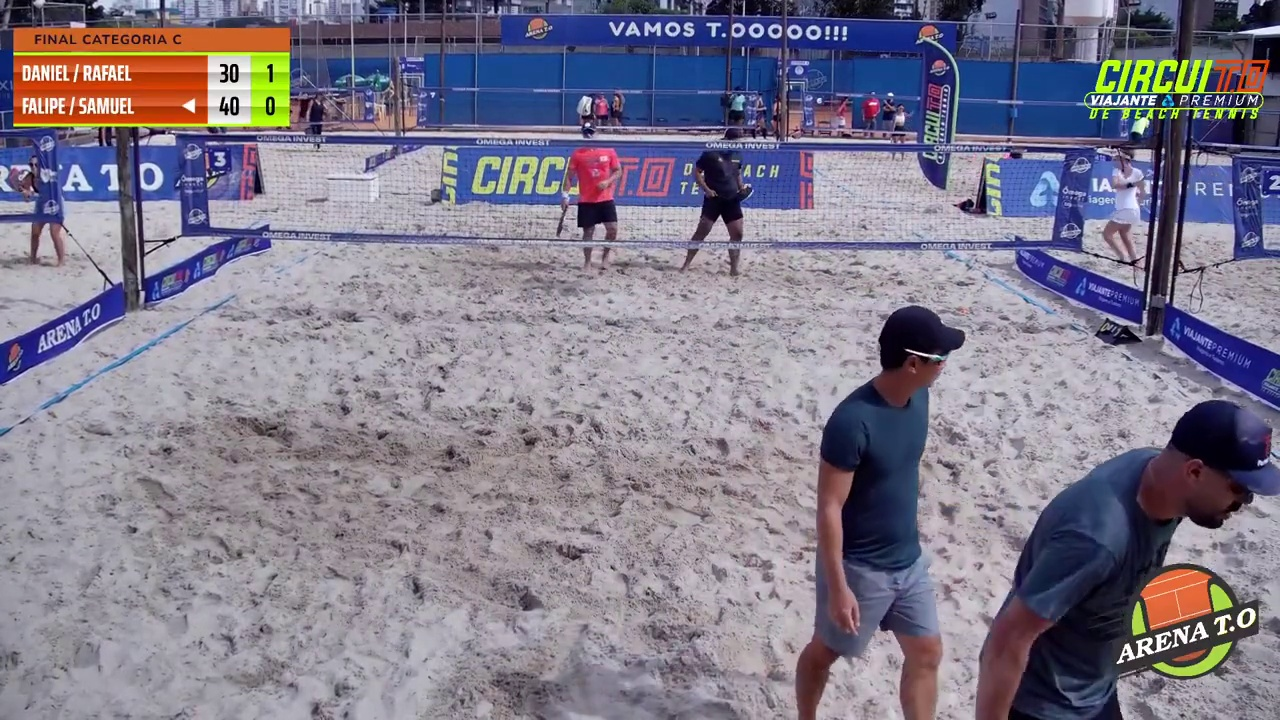court_line: (641, 0, 791, 348), (642, 0, 797, 190)
